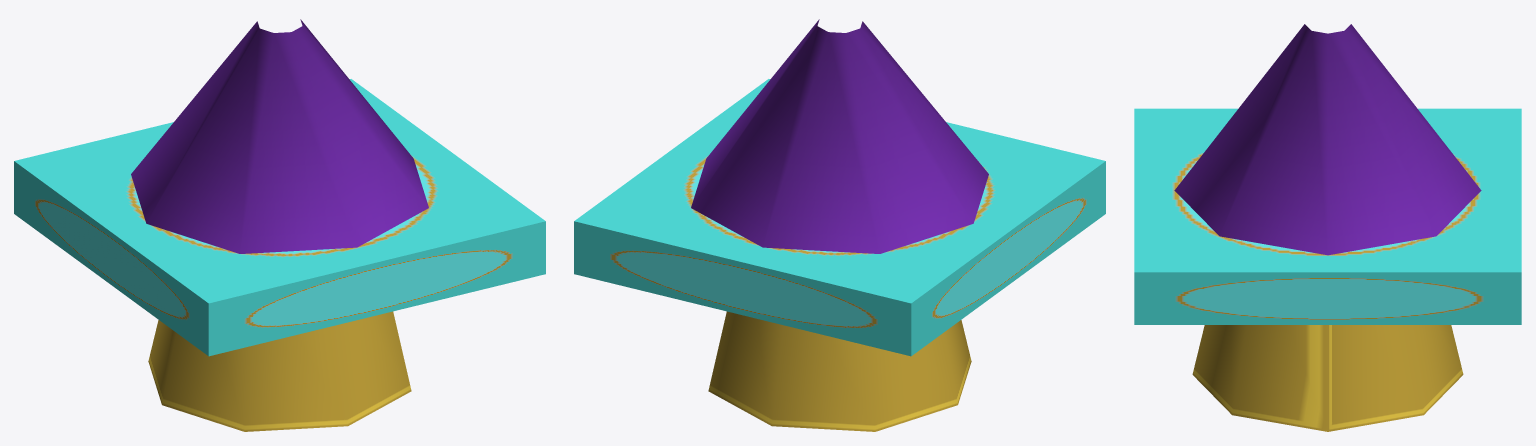
The model's file is ITEM_RITUAL_ORB.glb.
3 renders of one model, left to right at view 1: azimuth 30°, elevation 25°; view 2: azimuth 150°, elevation 25°; view 3: azimuth 270°, elevation 25°, orthographic.
Visible parts, largest first — view 1: ITEM_RITUAL_ORB; view 2: ITEM_RITUAL_ORB; view 3: ITEM_RITUAL_ORB.
Part boxes in pixels (bbox=[...]): ITEM_RITUAL_ORB: bbox=[14, 19, 545, 431]; ITEM_RITUAL_ORB: bbox=[574, 19, 1105, 431]; ITEM_RITUAL_ORB: bbox=[1134, 24, 1521, 431].
Size of the model in its own units: 0.32 by 0.32 by 0.32.
Materials: 1 (1 with a texture image).
